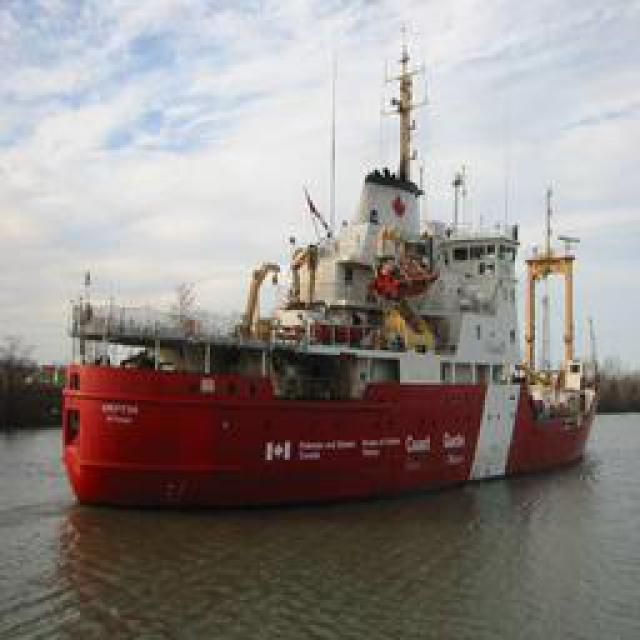Ship: (55, 26, 610, 508)
